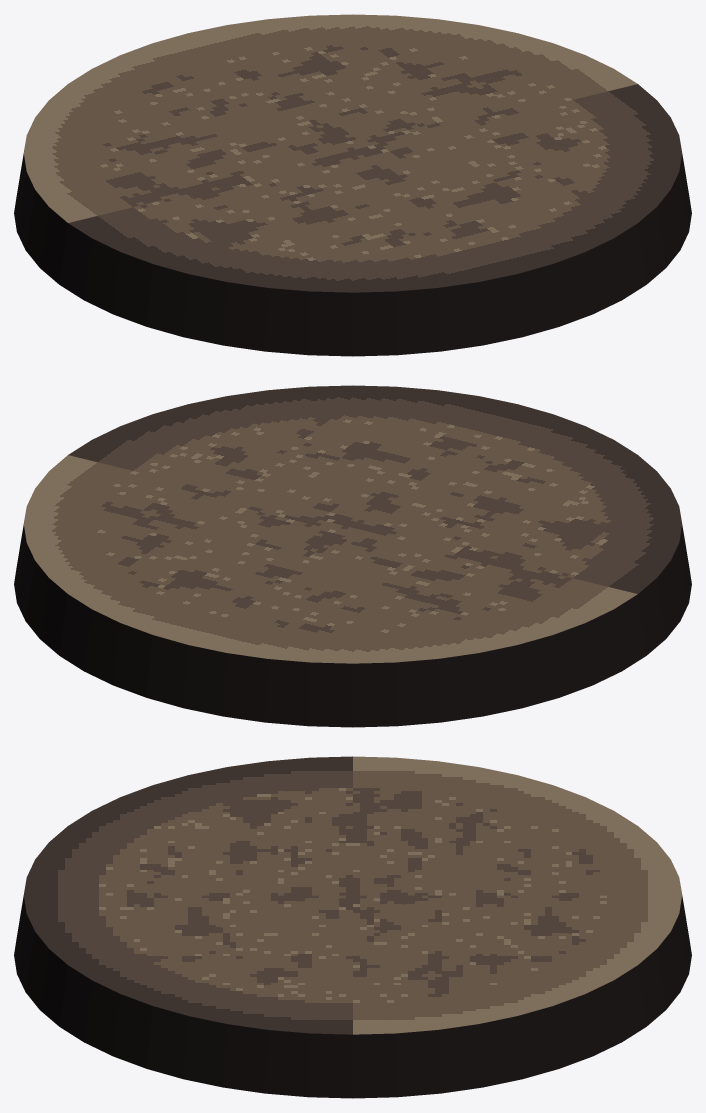
File: platform_rock.glb
The picture shows the model from 3 angles, top to bottom: view 1: azimuth 30°, elevation 25°; view 2: azimuth 150°, elevation 25°; view 3: azimuth 270°, elevation 25°; orthographic projection.
Visible parts, largest first — view 1: platform_rock; view 2: platform_rock; view 3: platform_rock.
Part boxes in pixels (box(x1,y1,x2,y2)): platform_rock: box(14, 14, 691, 356); platform_rock: box(14, 385, 691, 727); platform_rock: box(14, 756, 691, 1098).
Size of the model in its own units: 2.06 by 0.2 by 2.06.
2 materials, 1 textured.
